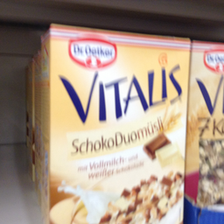cereal: (41, 24, 185, 223)
